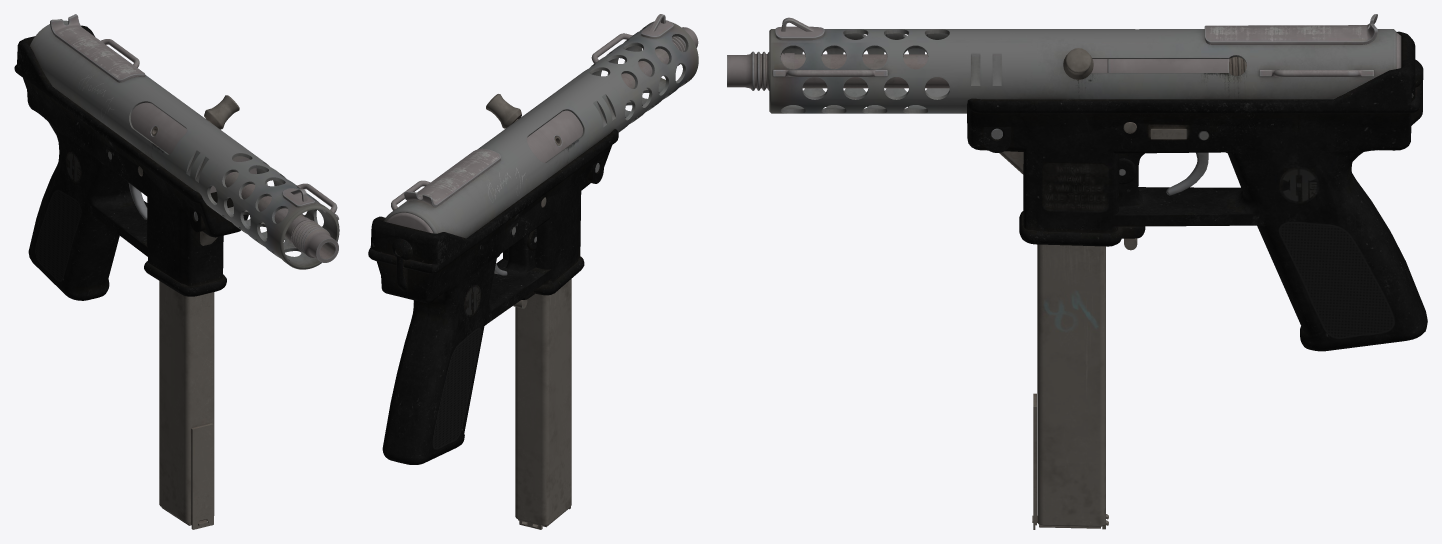
The model's file is g_tec9.glb.
The picture shows the model from 3 angles, left to right: view 1: azimuth 30°, elevation 25°; view 2: azimuth 150°, elevation 25°; view 3: azimuth 270°, elevation 25°; orthographic projection. The views are drawn at different scales.
Parts seen in each view (by area): view 1: Object_2, Object_3, mag_piece, Object_5, Object_4; view 2: Object_2, Object_3, mag_piece, Object_5, Object_4; view 3: Object_2, Object_3, mag_piece, Object_5, Object_4.
Part boxes in pixels (x1=…): Object_2: x1=14, y1=25, x2=248, y2=300; Object_3: x1=30, y1=20, x2=339, y2=269; mag_piece: x1=159, y1=281, x2=214, y2=529; Object_5: x1=50, y1=14, x2=338, y2=262; Object_4: x1=128, y1=95, x2=239, y2=245; Object_2: x1=368, y1=129, x2=618, y2=464; Object_3: x1=383, y1=21, x2=698, y2=238; mag_piece: x1=515, y1=279, x2=571, y2=529; Object_5: x1=386, y1=14, x2=698, y2=233; Object_4: x1=392, y1=94, x2=599, y2=308; Object_2: x1=967, y1=31, x2=1427, y2=351; Object_3: x1=769, y1=29, x2=1396, y2=113; mag_piece: x1=1032, y1=244, x2=1108, y2=529; Object_5: x1=727, y1=14, x2=1401, y2=90; Object_4: x1=991, y1=48, x2=1423, y2=250.
Bounding box in the file's own units: 2.07 × 9.3 × 11.69.
Materials: 4 (4 with a texture image).
